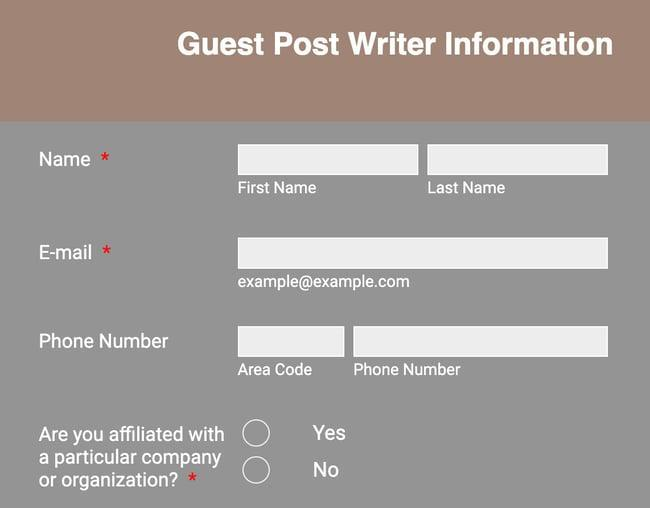input: (239, 238, 610, 271), (354, 326, 609, 359), (429, 145, 609, 177), (238, 145, 420, 176), (239, 327, 346, 359)
label: (178, 29, 616, 59), (36, 427, 227, 489), (238, 275, 412, 294), (39, 331, 172, 354), (39, 150, 111, 172), (349, 364, 464, 377), (425, 179, 508, 197), (236, 180, 320, 197), (39, 243, 112, 262), (238, 362, 315, 379), (312, 459, 342, 479), (314, 423, 346, 441)
radio: (243, 457, 272, 487), (244, 419, 272, 448)
